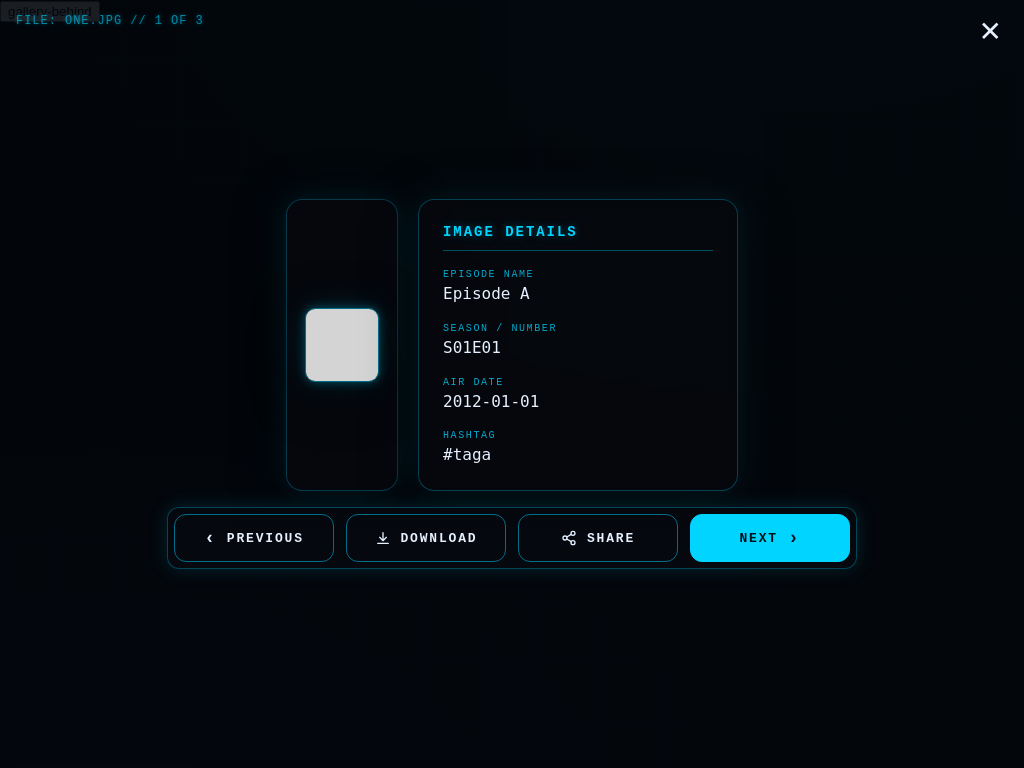
Scenario: LightboxContainer — navigation › Next / Previous buttons move and wrap around
The image size is (1024, 768).
Click the button with aria-label "Previous image".
click(254, 538)  # box [174,514,334,562]
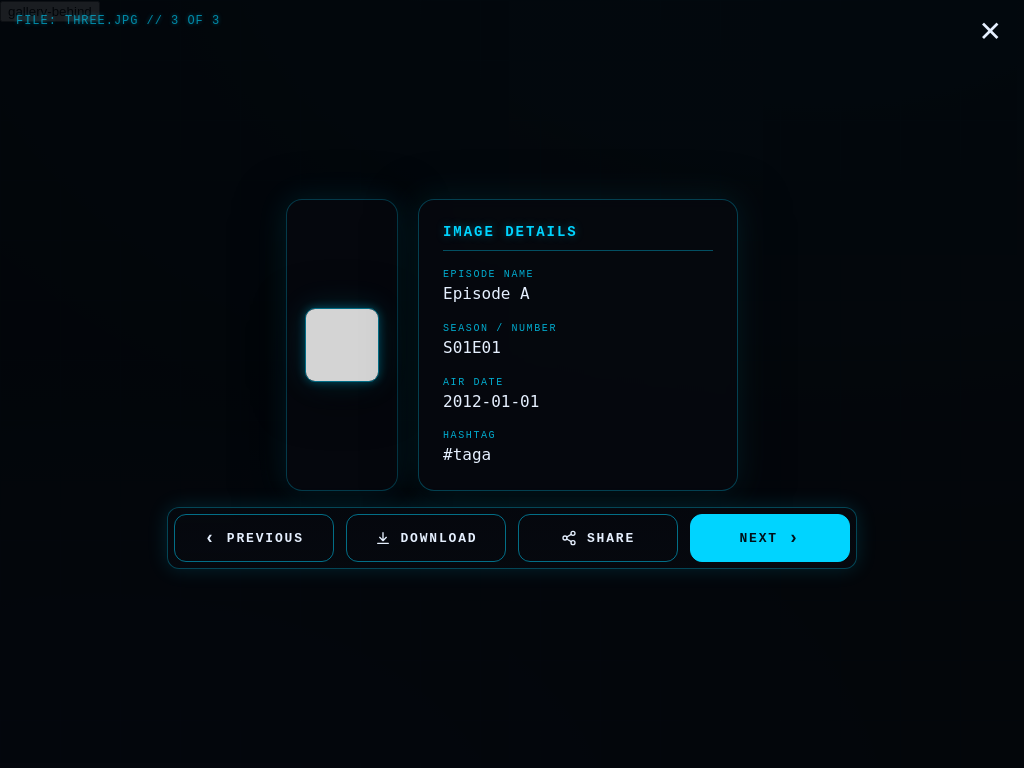
expect the text with class "lightbox-hud" shows "3 OF 3": met, box [16,14,220,28]
Click the button with aria-label "Next image".
click(770, 538)  # box [690,514,850,562]
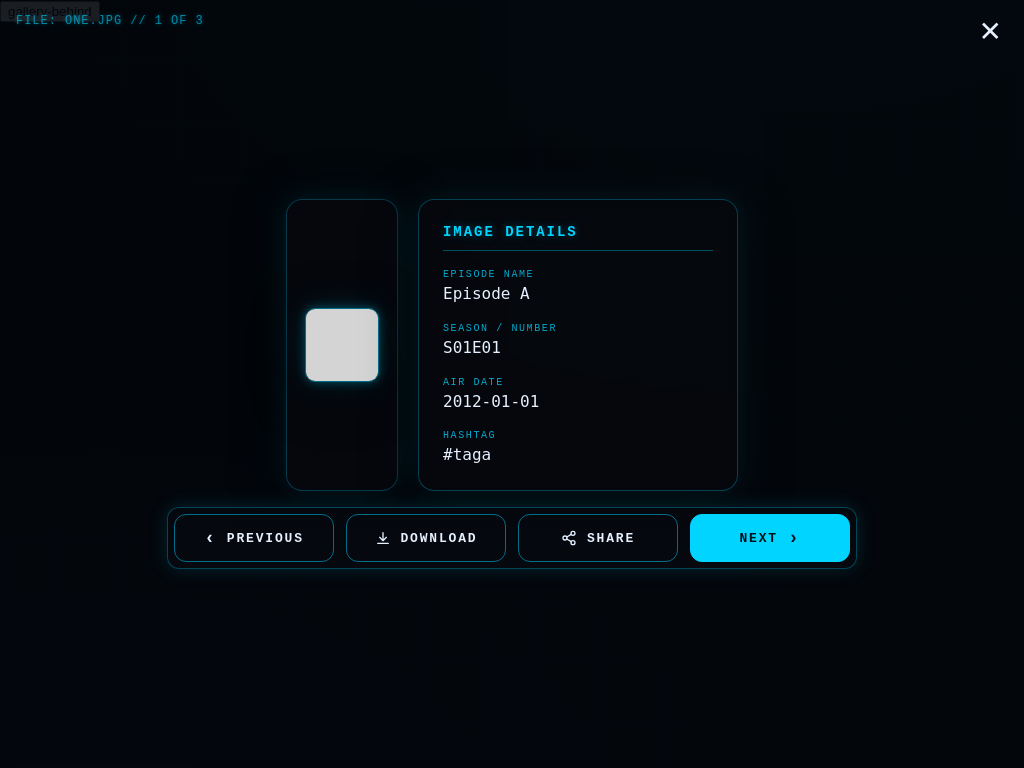
expect the text with class "lightbox-hud" shows "1 OF 3": met, box [16,14,204,28]
Click the button with aria-label "Next image".
click(770, 538)  # box [690,514,850,562]
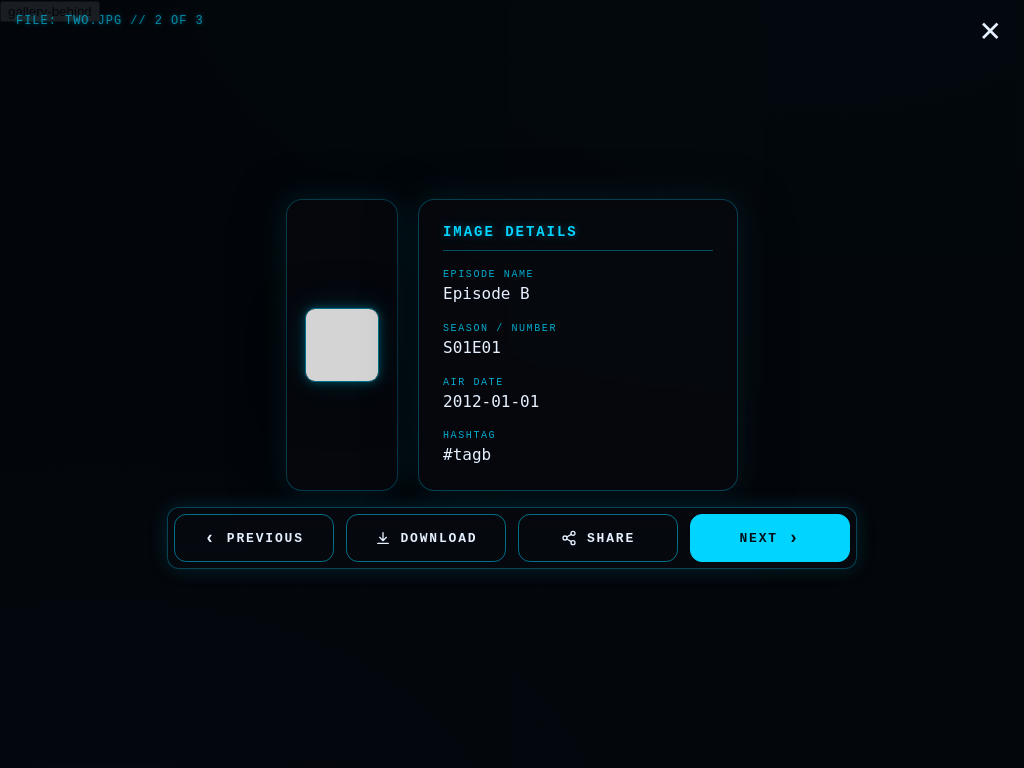
expect the text with class "lightbox-hud" shows "2 OF 3": met, box [16,14,204,28]
